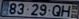2: (29, 3, 39, 15)
3: (16, 2, 24, 15)
8: (8, 2, 17, 14)
9: (38, 3, 47, 16)
H: (60, 4, 71, 17)
Q: (50, 3, 61, 16)
